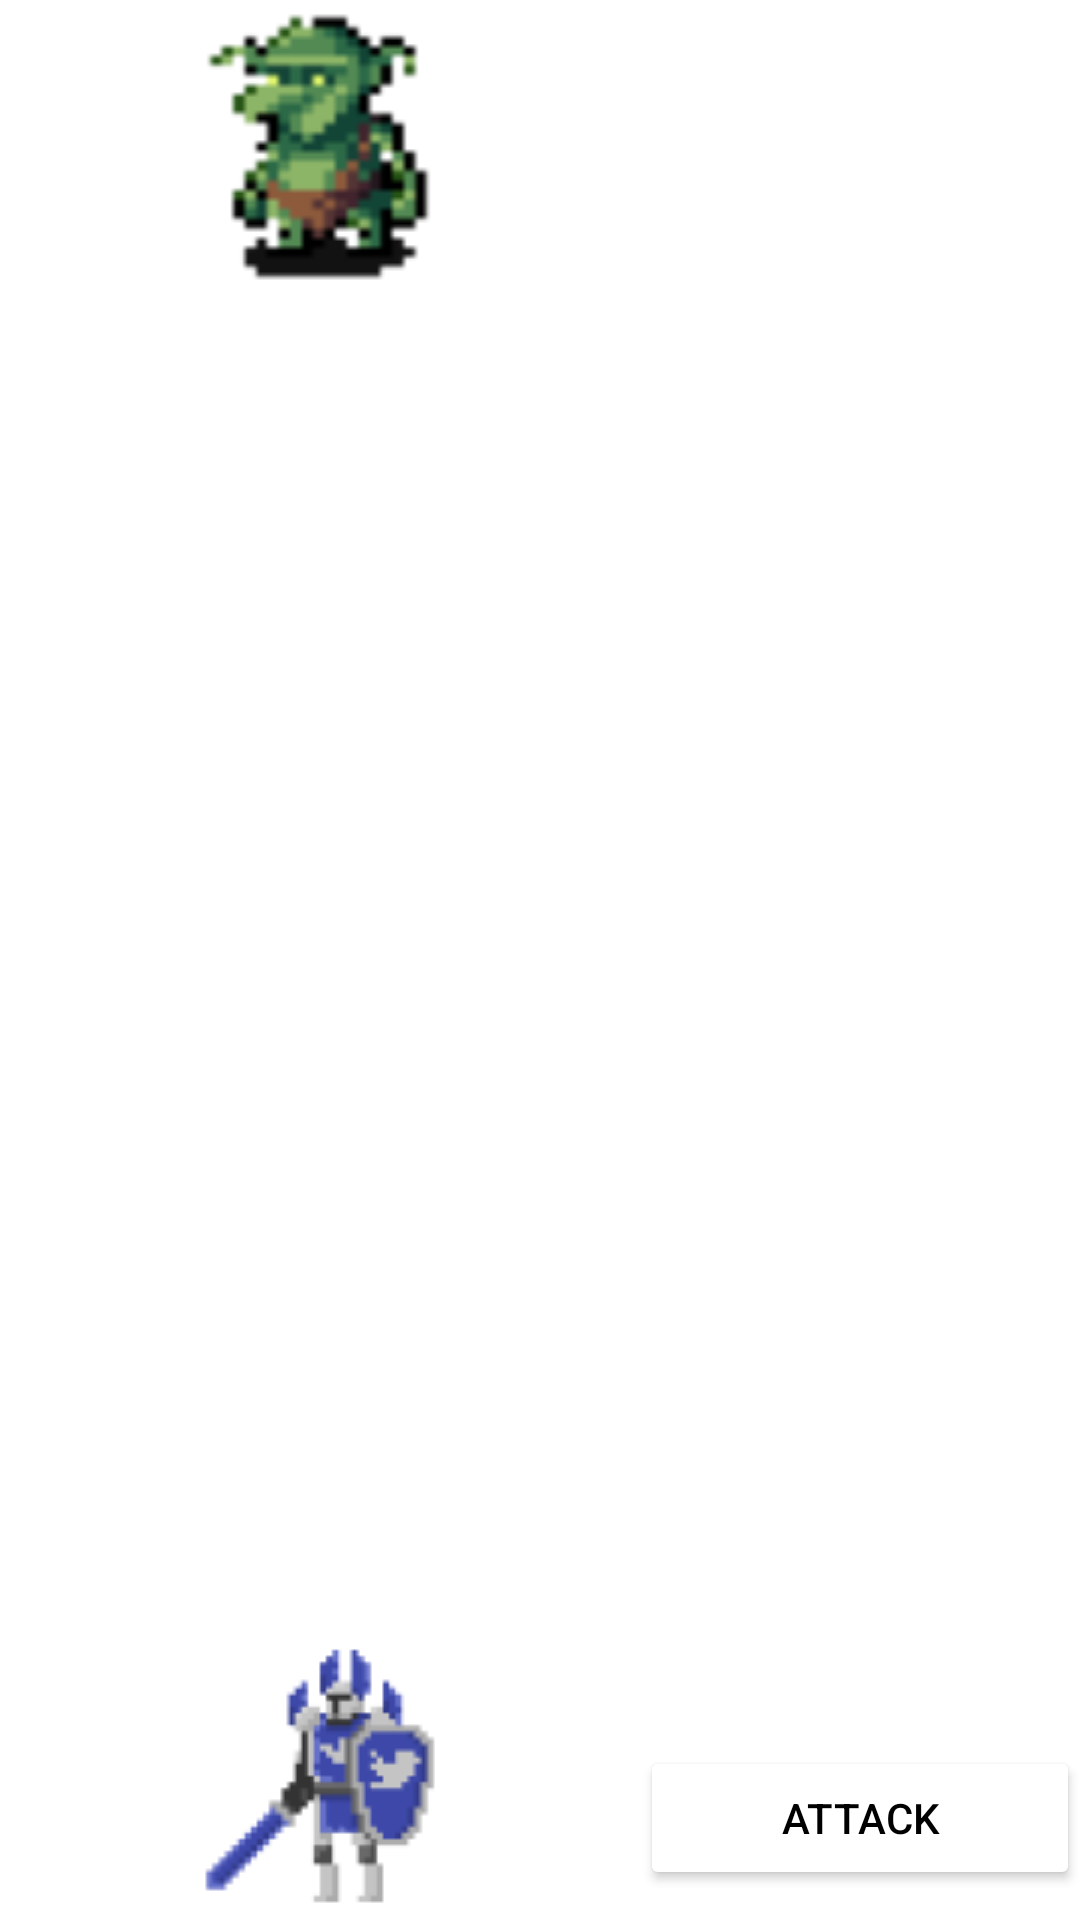

Named icons in this screenshot (1080 × 1920) and their centers, point (x, y):
goblin rescaled: point (318, 146)
warrior rescaled: point (319, 1776)
